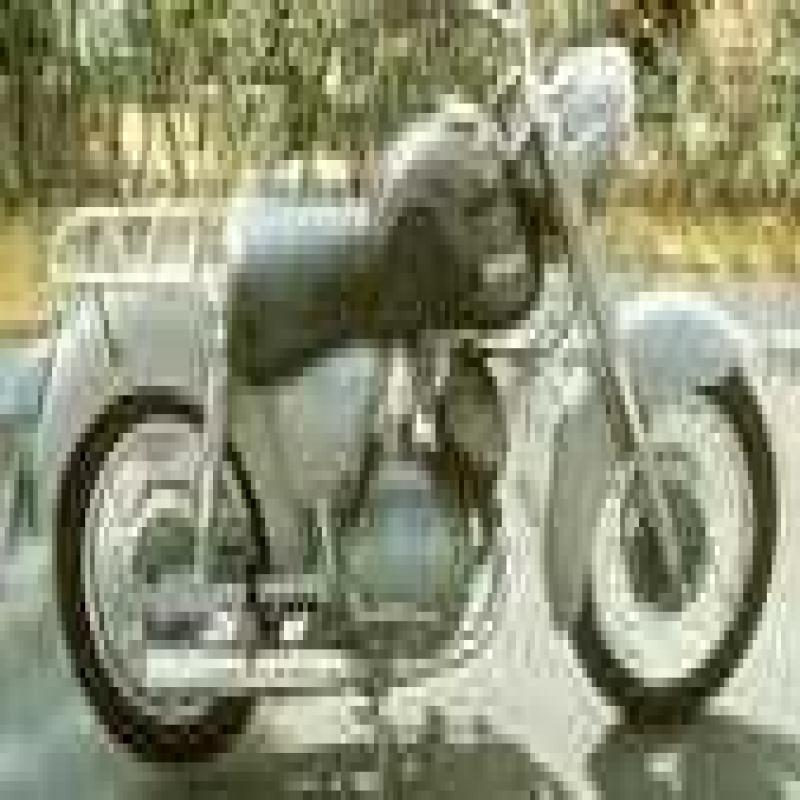bike: (54, 0, 767, 790)
